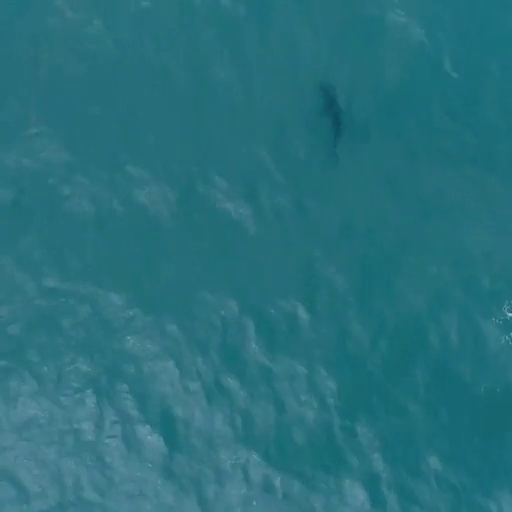shark: (311, 80, 351, 152)
